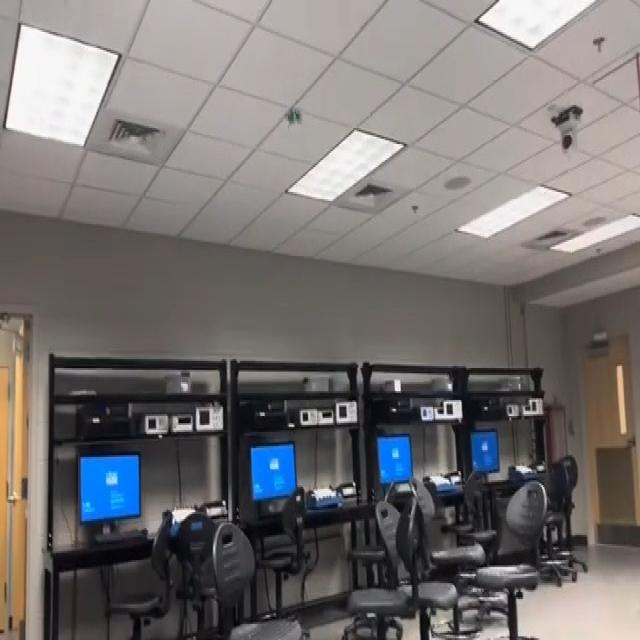drone: (279, 90, 311, 138)
